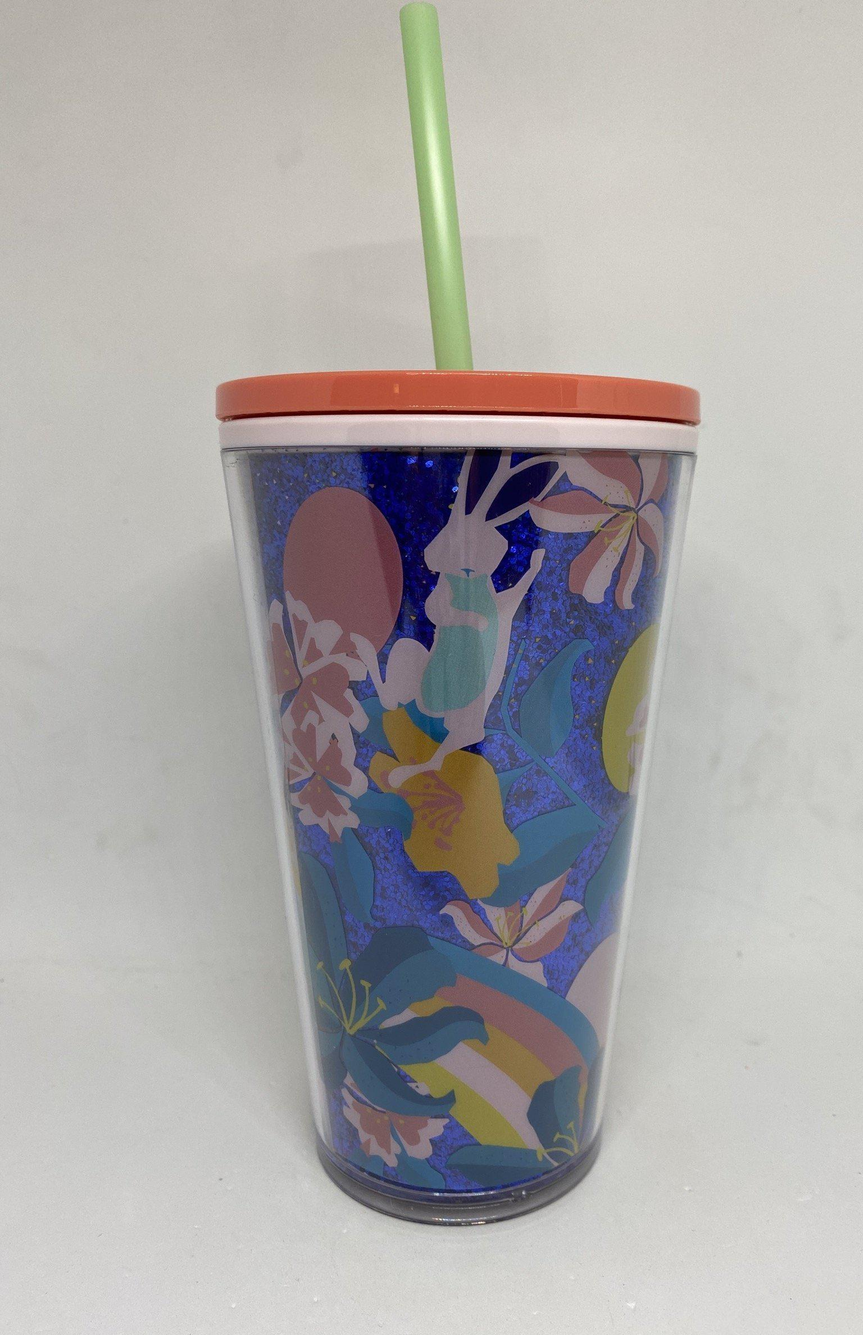cup-disposable: (209, 364, 706, 1233)
